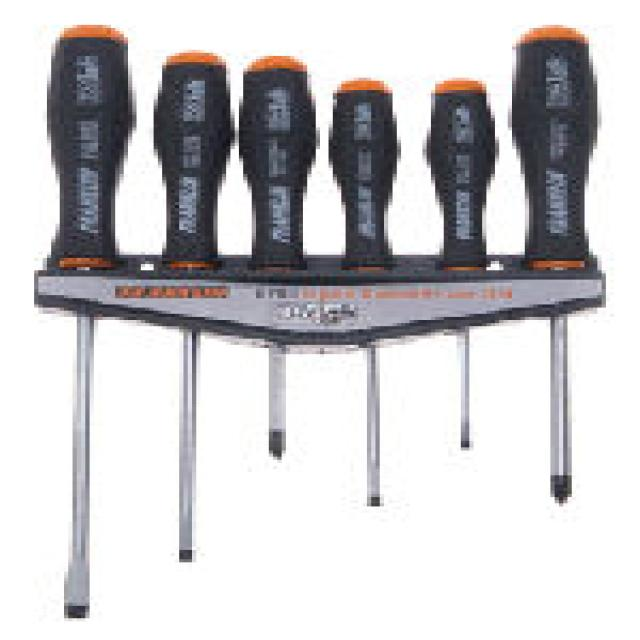screw driver: (484, 12, 640, 525), (314, 70, 456, 534), (36, 18, 138, 640), (133, 31, 231, 595), (412, 60, 510, 459), (240, 47, 316, 477)
